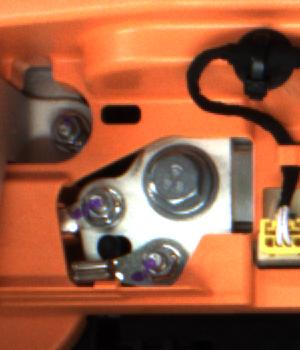nut_b: (140, 142, 226, 230)
screw_s: (79, 187, 122, 229), (47, 116, 88, 153), (140, 247, 179, 283)
